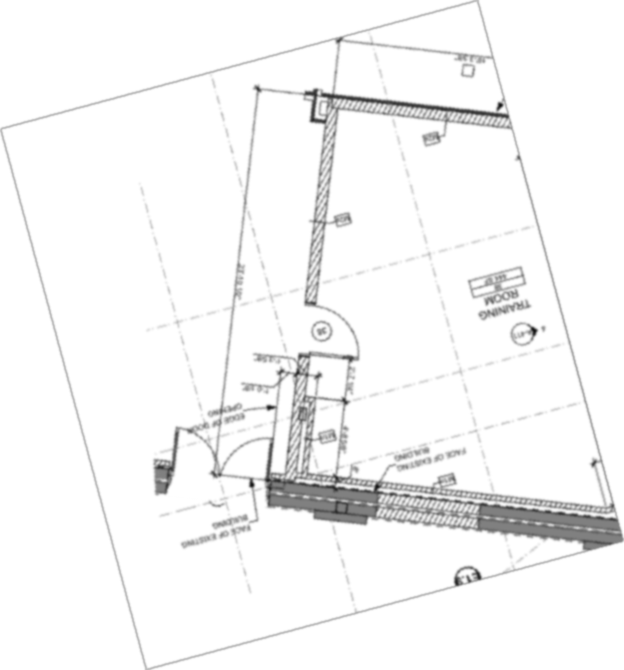door: (298, 301, 365, 366)
double door: (167, 420, 276, 485)
window: (370, 475, 482, 544)
